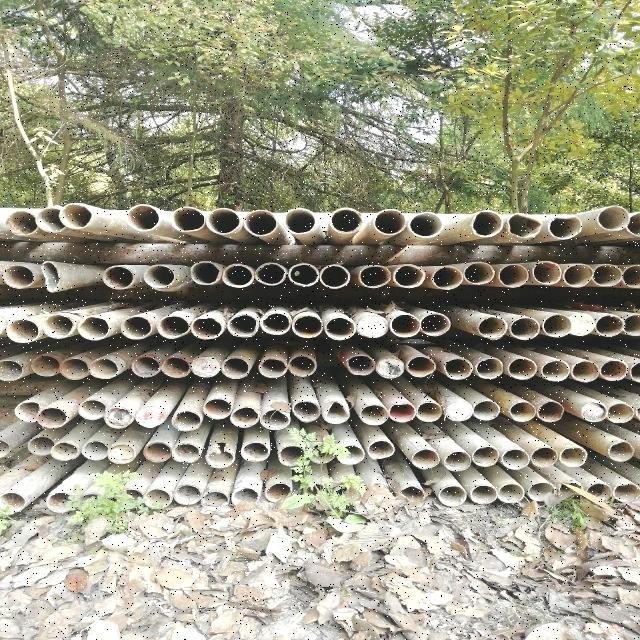pipe: (504, 210, 544, 240), (56, 201, 96, 230), (124, 202, 162, 232), (241, 208, 279, 236), (328, 205, 363, 235), (204, 207, 240, 236), (546, 213, 584, 240), (355, 263, 393, 290), (352, 312, 390, 339), (4, 208, 38, 238), (281, 206, 317, 234), (141, 262, 177, 290), (408, 210, 443, 238), (98, 263, 134, 290), (3, 318, 40, 344), (34, 205, 66, 235), (471, 208, 503, 238), (596, 204, 630, 232), (220, 261, 254, 289), (252, 261, 288, 287), (170, 205, 204, 232), (373, 208, 407, 235), (318, 263, 352, 290), (225, 312, 259, 339), (1, 264, 35, 290), (36, 260, 62, 294), (188, 260, 222, 286), (392, 263, 426, 289), (430, 264, 464, 290), (496, 262, 530, 288), (40, 313, 74, 339), (76, 315, 110, 341), (190, 315, 224, 341), (507, 314, 541, 340), (290, 313, 322, 340), (119, 314, 152, 340), (388, 312, 421, 338), (418, 311, 451, 337), (29, 352, 62, 378), (156, 314, 190, 339), (132, 404, 166, 429), (564, 262, 594, 290), (286, 262, 318, 288), (462, 260, 494, 286), (531, 259, 563, 285), (324, 316, 356, 342), (476, 314, 508, 340), (34, 406, 68, 430), (169, 440, 203, 464), (590, 263, 622, 288), (88, 356, 120, 381), (130, 353, 162, 378), (218, 355, 250, 380), (499, 446, 531, 471), (436, 483, 468, 508), (170, 409, 203, 433), (343, 353, 377, 376), (566, 311, 596, 337), (540, 357, 570, 383), (260, 312, 292, 336), (189, 354, 221, 378), (256, 355, 288, 379), (406, 354, 438, 378), (441, 356, 473, 380), (474, 356, 506, 380), (102, 405, 134, 429), (557, 444, 589, 468), (78, 491, 110, 515), (394, 483, 426, 507), (526, 479, 558, 503), (358, 402, 388, 427), (583, 479, 613, 504), (258, 409, 292, 431), (75, 397, 106, 421), (506, 356, 538, 379), (542, 314, 572, 338), (594, 313, 624, 337), (59, 356, 89, 380), (160, 354, 190, 378), (286, 353, 316, 377), (570, 360, 600, 384), (598, 358, 628, 382), (12, 400, 42, 424), (291, 399, 321, 423), (204, 445, 234, 469), (278, 444, 308, 468), (470, 444, 500, 468), (605, 438, 635, 462), (468, 482, 498, 506), (373, 357, 405, 379), (200, 397, 232, 419), (238, 440, 270, 462), (44, 491, 76, 513), (411, 446, 439, 471), (306, 442, 336, 465), (200, 489, 230, 512), (579, 399, 607, 423), (228, 406, 258, 428), (387, 401, 417, 423), (472, 399, 502, 421), (506, 401, 536, 423), (535, 400, 565, 422), (25, 435, 55, 457), (49, 440, 79, 462), (106, 443, 136, 465), (142, 441, 172, 463), (335, 444, 365, 466), (230, 485, 260, 507), (495, 482, 525, 504), (115, 486, 142, 510), (80, 439, 108, 462), (300, 481, 332, 501), (366, 439, 396, 460), (1, 490, 27, 514), (415, 400, 443, 422), (444, 400, 472, 422), (606, 402, 634, 424), (443, 450, 471, 472), (529, 446, 557, 468), (143, 488, 171, 510), (173, 484, 201, 506), (264, 482, 292, 504), (612, 482, 640, 504), (324, 400, 349, 424), (332, 482, 362, 502), (556, 479, 584, 499), (0, 358, 22, 383), (362, 481, 390, 500), (622, 263, 640, 289), (622, 312, 640, 338), (626, 210, 640, 237), (627, 359, 639, 383), (0, 437, 12, 460)
